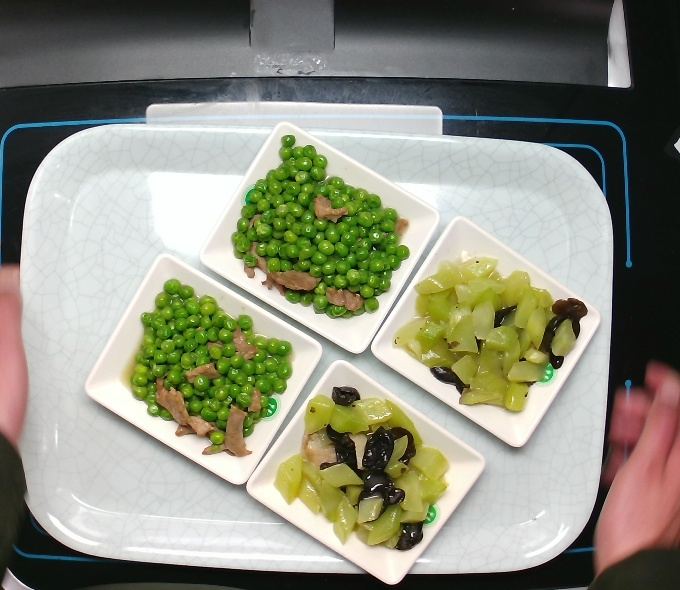wcq-CanDouRouSi: (225, 128, 423, 334), (123, 272, 304, 463)
wcq-WoSunKuai: (267, 371, 467, 553), (394, 250, 595, 415)
